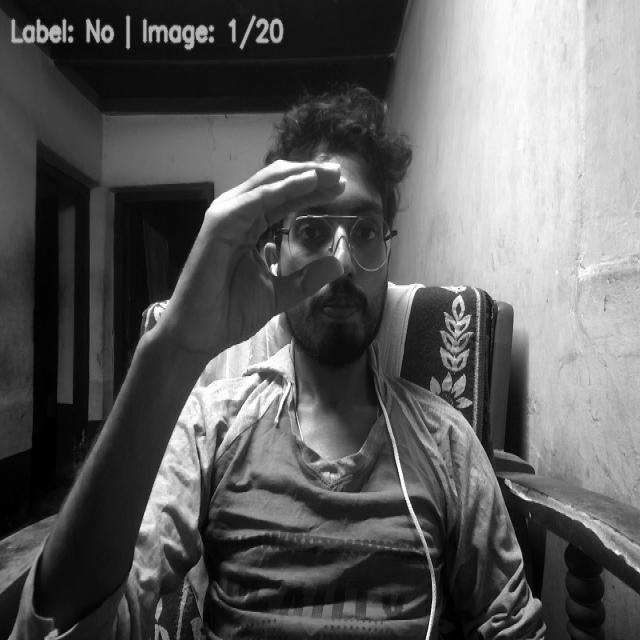No: (177, 156, 347, 354)
